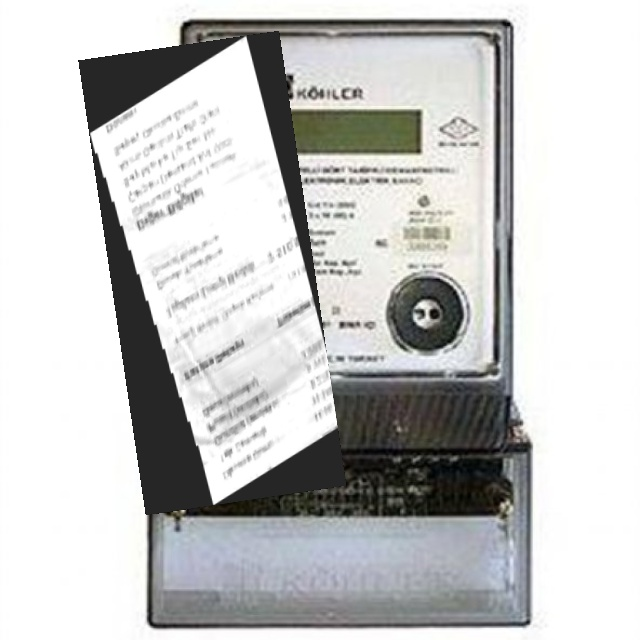electricity-bill: (78, 30, 346, 514)
